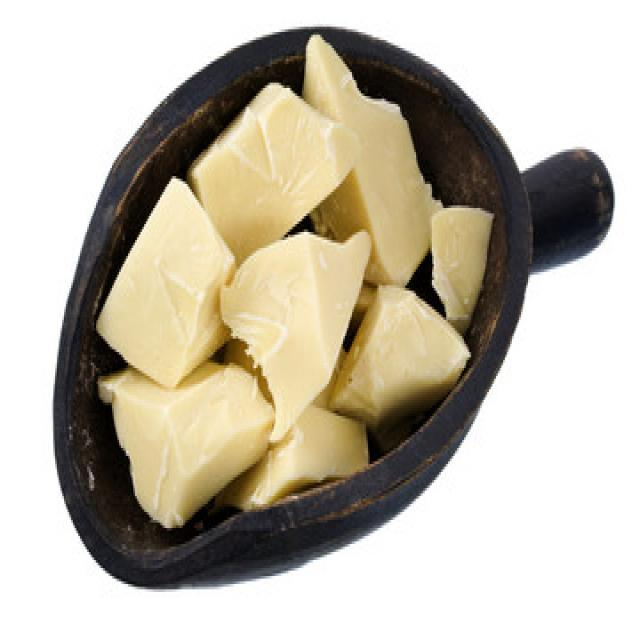Chocolate: (100, 44, 490, 547)
